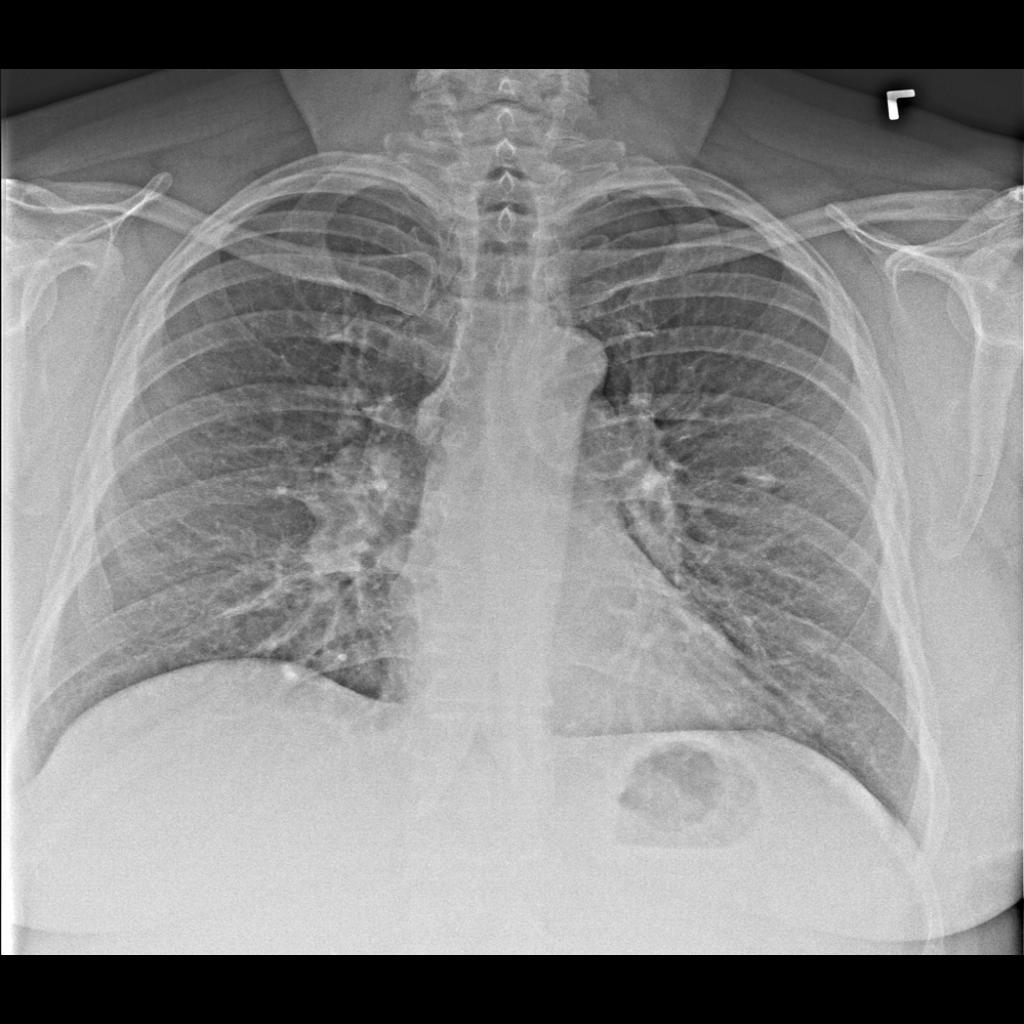Nodule: (740, 460, 781, 500)
